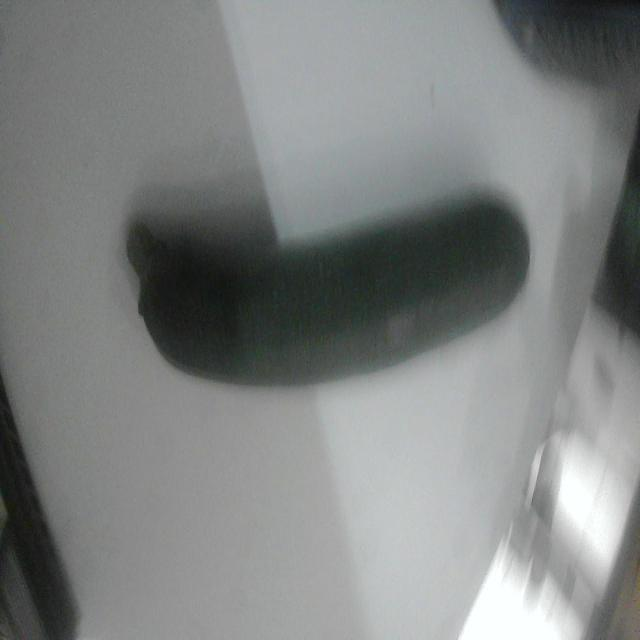Courgette: (128, 195, 530, 386)
